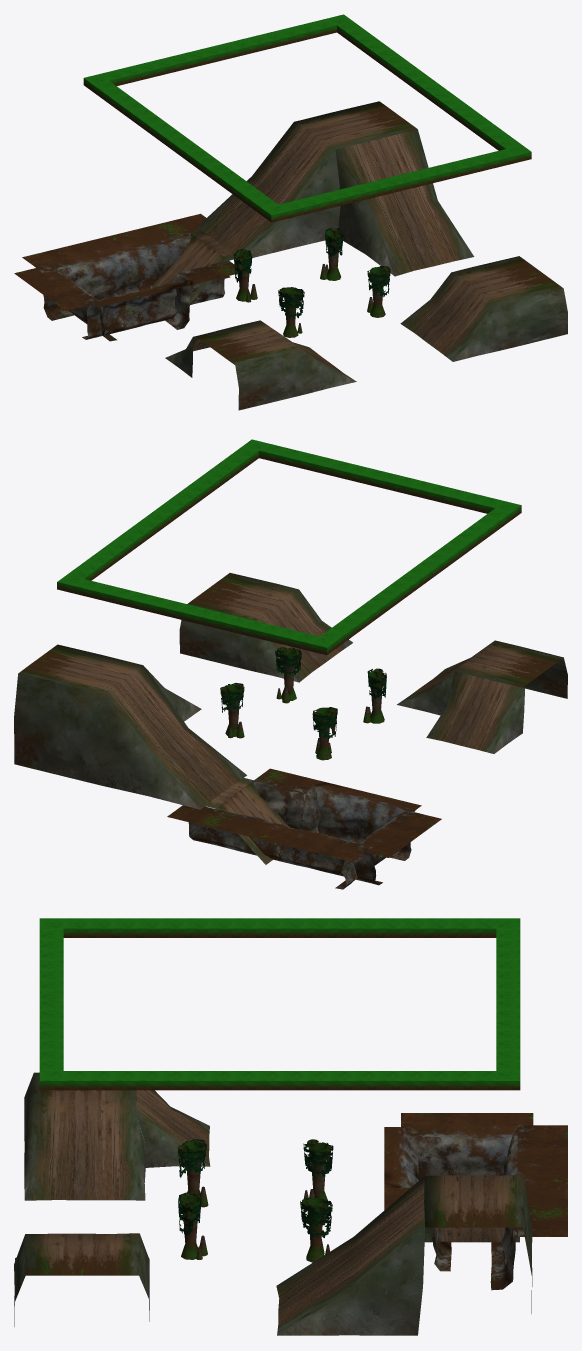
File: Stage_Block_4_4.fbx
The picture shows the model from 3 angles, top to bottom: view 1: azimuth 30°, elevation 25°; view 2: azimuth 150°, elevation 25°; view 3: azimuth 270°, elevation 25°; orthographic projection. The views are drawn at different scales.
Visible parts, largest first — view 1: Stage_Block_4_4_1, Stage_Block_4_4_2; view 2: Stage_Block_4_4_1, Stage_Block_4_4_2; view 3: Stage_Block_4_4_1, Stage_Block_4_4_2.
Boxes of the visible parts, x1,y1,x2,y2 form: Stage_Block_4_4_1: (14, 101, 567, 410); Stage_Block_4_4_2: (83, 14, 531, 222); Stage_Block_4_4_1: (14, 573, 567, 889); Stage_Block_4_4_2: (57, 439, 521, 655); Stage_Block_4_4_1: (14, 1072, 567, 1335); Stage_Block_4_4_2: (39, 918, 520, 1090).
Bounding box in the file's own units: 4448 × 2643 × 4609.
Materials: 5 (5 with a texture image).
